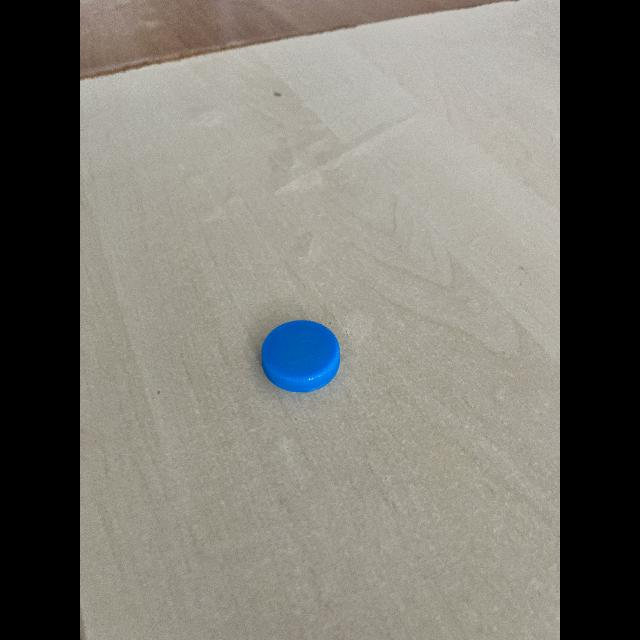plastic_bottle_cap: (249, 316, 345, 396)
